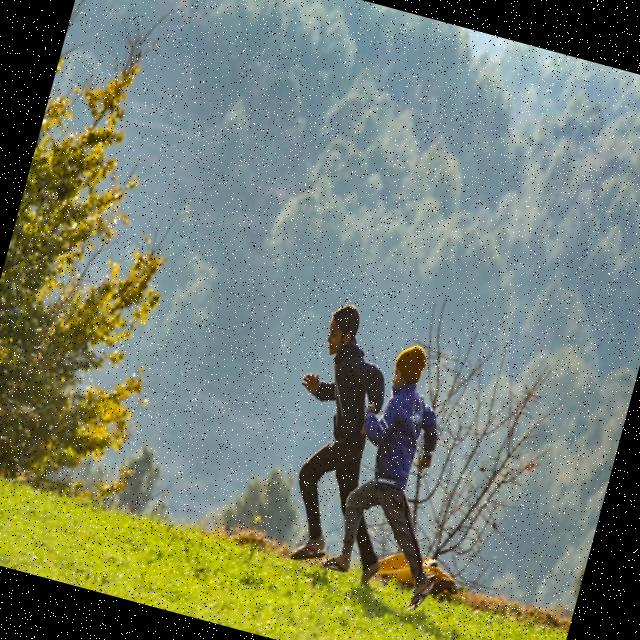Person: (255, 296, 442, 588), (317, 335, 492, 616)
